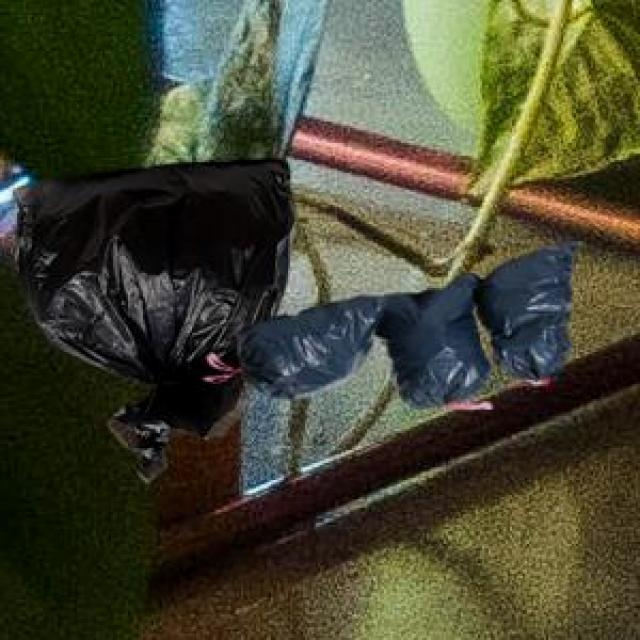Trashbag: (12, 154, 275, 372), (371, 275, 492, 416), (240, 291, 382, 403), (480, 244, 589, 380)
